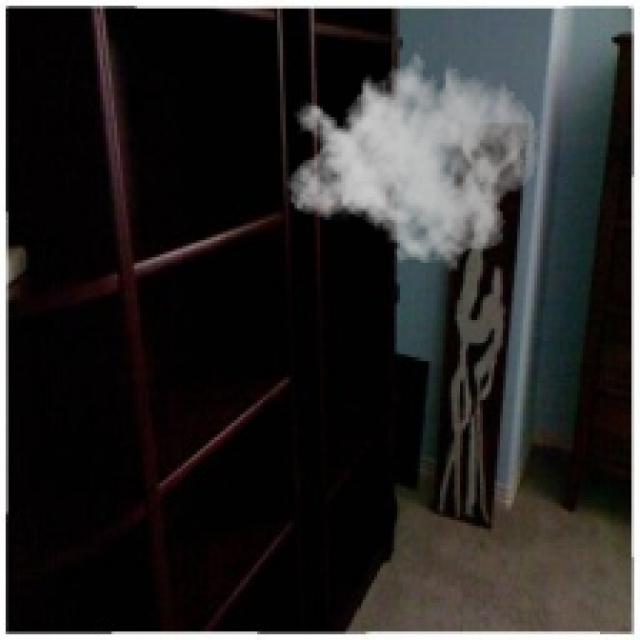smoke: (286, 40, 540, 277)
